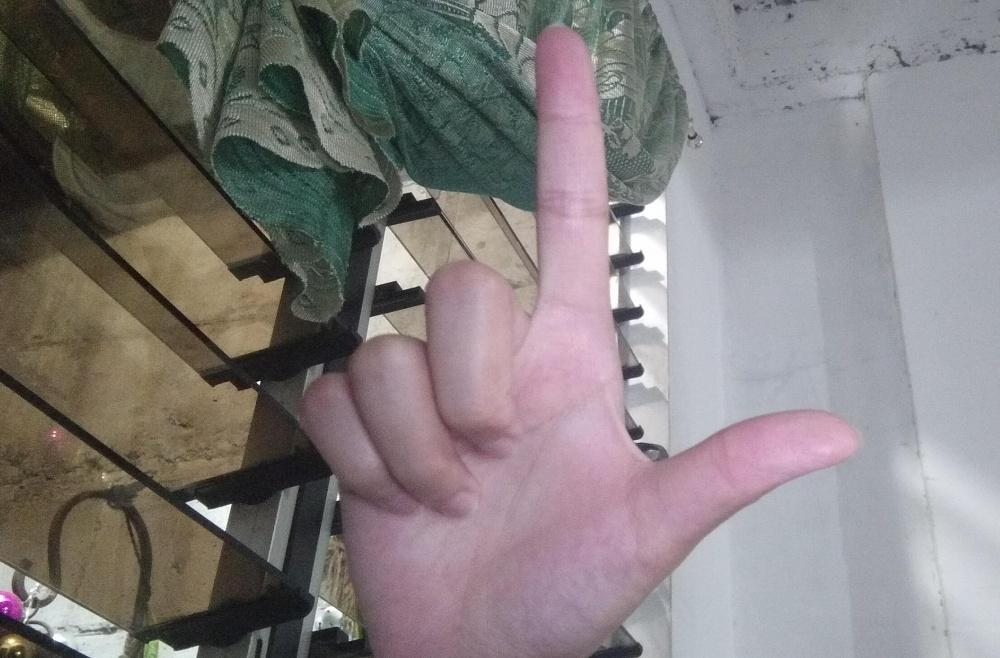l: (295, 22, 862, 654)
